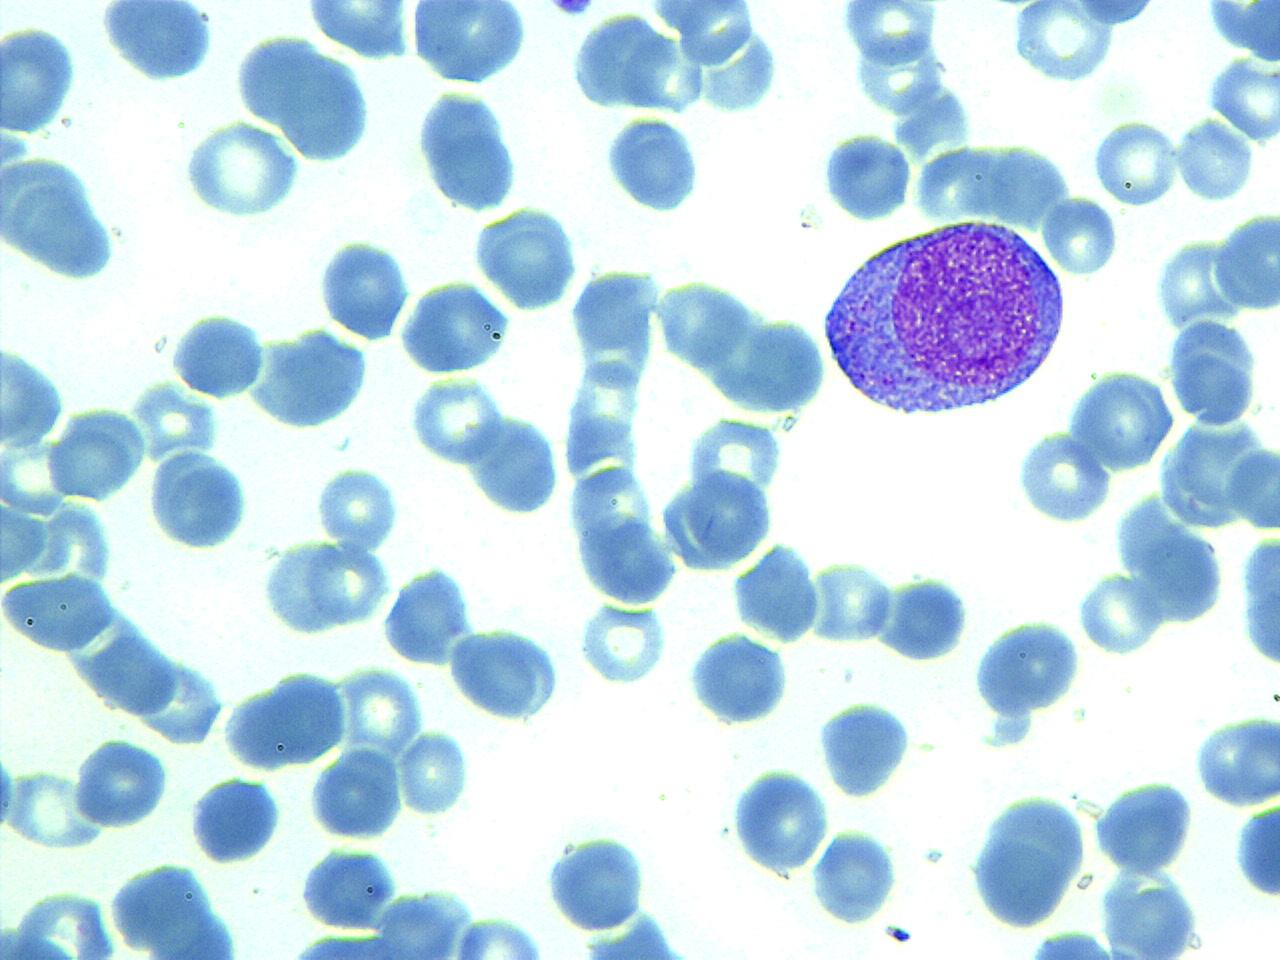Platelets: (982, 712, 1031, 750), (0, 747, 18, 833), (544, 0, 594, 19), (883, 924, 913, 946)
RBC: (1065, 364, 1177, 476), (308, 744, 405, 842), (406, 372, 504, 469), (3, 766, 104, 854), (340, 662, 426, 761), (1089, 116, 1179, 210), (881, 572, 972, 662), (314, 462, 404, 552), (44, 418, 135, 502), (810, 557, 894, 647), (300, 0, 414, 61), (396, 729, 472, 820), (1040, 194, 1118, 277), (444, 914, 551, 958)
WBC: (818, 211, 1070, 422), (566, 1, 790, 127), (836, 2, 984, 157), (658, 405, 786, 578), (231, 29, 377, 166), (1, 137, 126, 289), (966, 789, 1092, 934), (568, 462, 680, 604), (413, 85, 526, 215), (217, 665, 352, 771), (105, 858, 249, 958), (264, 536, 393, 644), (249, 323, 374, 432), (469, 202, 587, 315), (180, 117, 305, 223), (970, 614, 1086, 723), (1004, 2, 1146, 89), (446, 623, 563, 727), (729, 762, 833, 878), (543, 828, 654, 936), (145, 445, 254, 554), (398, 278, 514, 378), (1202, 1, 1280, 148), (1091, 774, 1199, 878), (464, 408, 566, 518), (377, 560, 478, 672), (600, 111, 706, 217), (684, 628, 794, 729), (0, 570, 122, 659), (403, 2, 532, 87), (1097, 861, 1207, 959), (316, 233, 414, 343), (814, 696, 916, 800), (95, 0, 219, 85), (1012, 426, 1114, 528), (294, 841, 404, 935), (70, 734, 174, 832), (730, 538, 826, 644), (405, 372, 506, 470), (807, 824, 902, 928), (187, 770, 286, 868), (818, 127, 916, 224), (309, 744, 405, 842), (574, 594, 672, 688), (168, 310, 267, 402), (2, 20, 81, 135), (1191, 708, 1280, 810), (2, 884, 123, 959), (880, 570, 974, 663), (0, 336, 70, 459), (314, 460, 402, 555), (300, 1, 416, 62), (1236, 521, 1280, 676), (571, 914, 709, 960), (1230, 796, 1280, 905), (1018, 926, 1128, 958)
